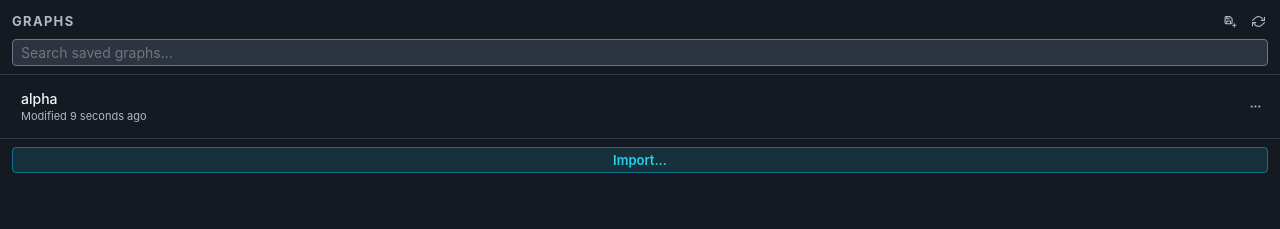
Test: GraphsTab rename › renames the file, re-reads the list and says so
The width and height of the screenshot is (1280, 229).
expect the button with aria-label "Open alpha" is shown: met, box [9,82,1243,131]
Click the button named "More actions alpha".
click(1255, 107)  # box [1243,95,1267,119]
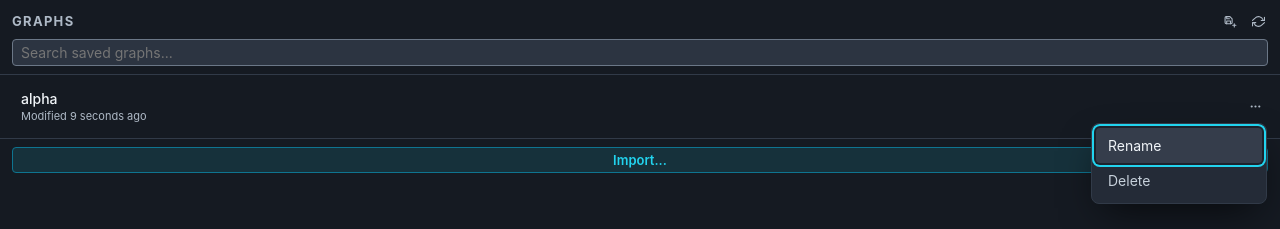
Click the menu item "Rename".
click(1179, 146)  # box [1096,128,1262,163]
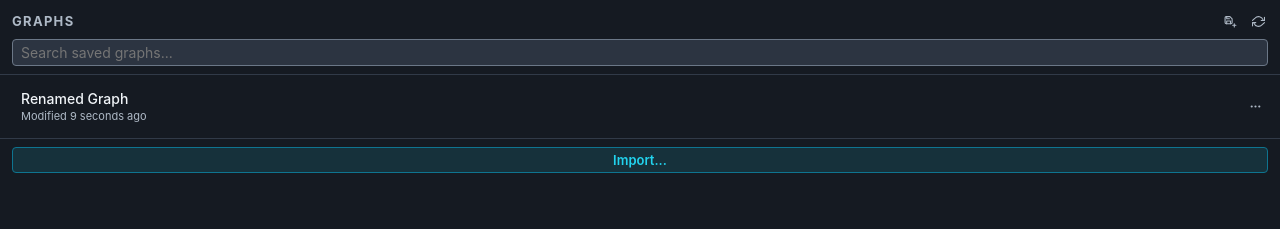
expect the button with aria-label "Open Renamed Graph" is shown: met, box [9,82,1243,131]
